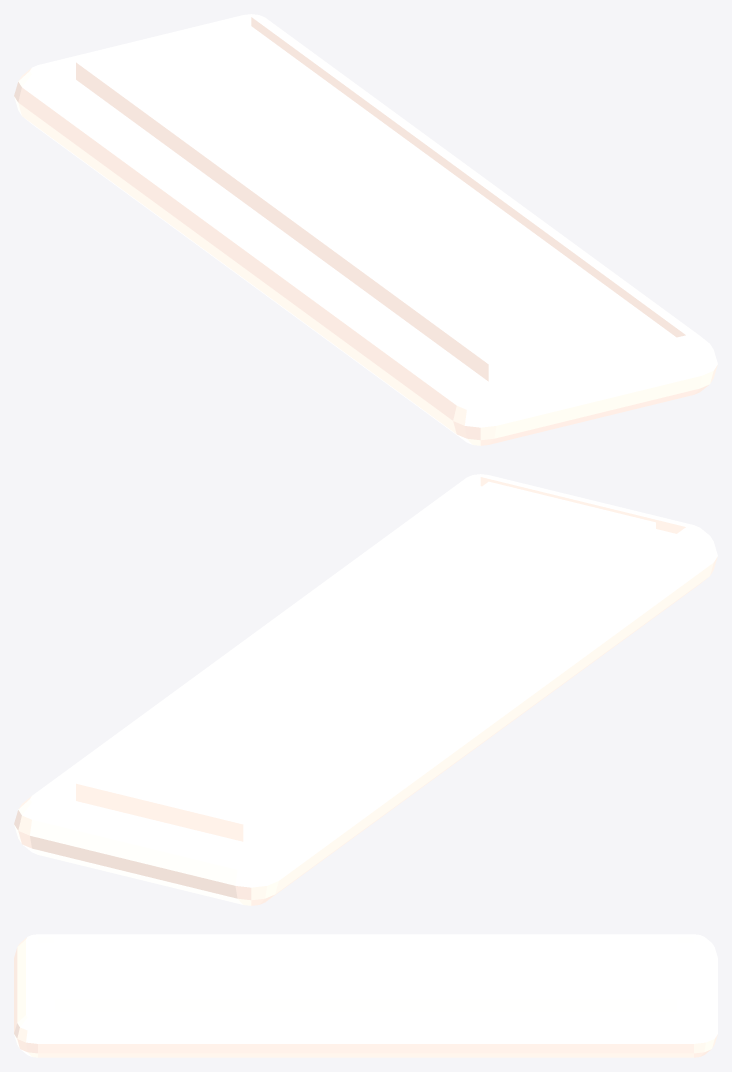
Rendered from Keyboard.fbx.
3 views of the same model, one above another, from view 1: azimuth 30°, elevation 25°; view 2: azimuth 150°, elevation 25°; view 3: azimuth 270°, elevation 25° (orthographic). The views are drawn at different scales.
Visible parts, largest first — view 1: Cube_10; view 2: Cube_10; view 3: Cube_10.
Part boxes in pixels (x1=…): Cube_10: x1=14, y1=14, x2=717, y2=445; Cube_10: x1=14, y1=474, x2=717, y2=905; Cube_10: x1=14, y1=934, x2=717, y2=1057.
Bounding box in the file's own units: 49.52 × 11.94 × 154.
